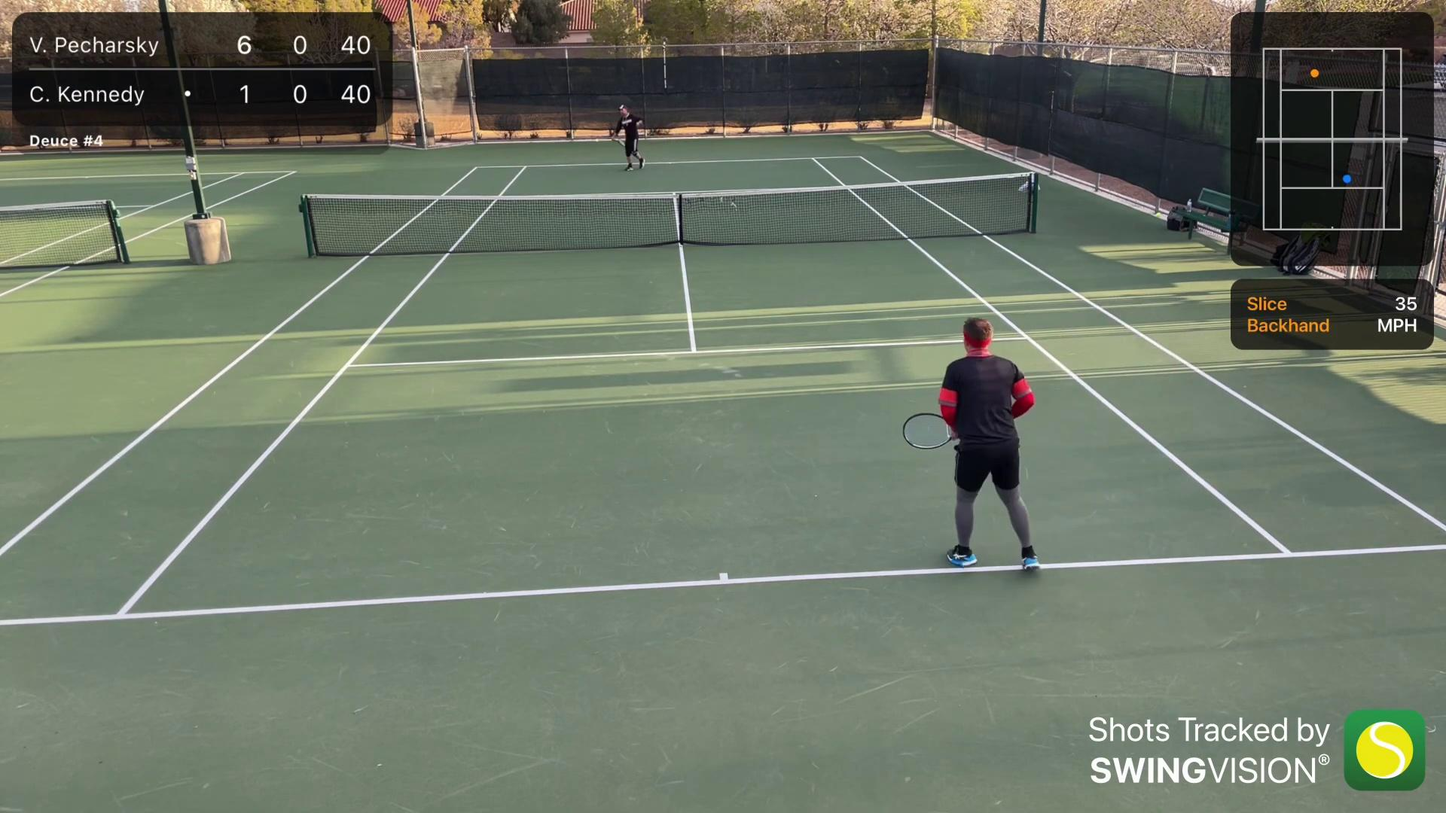ball: (595, 137, 599, 143)
